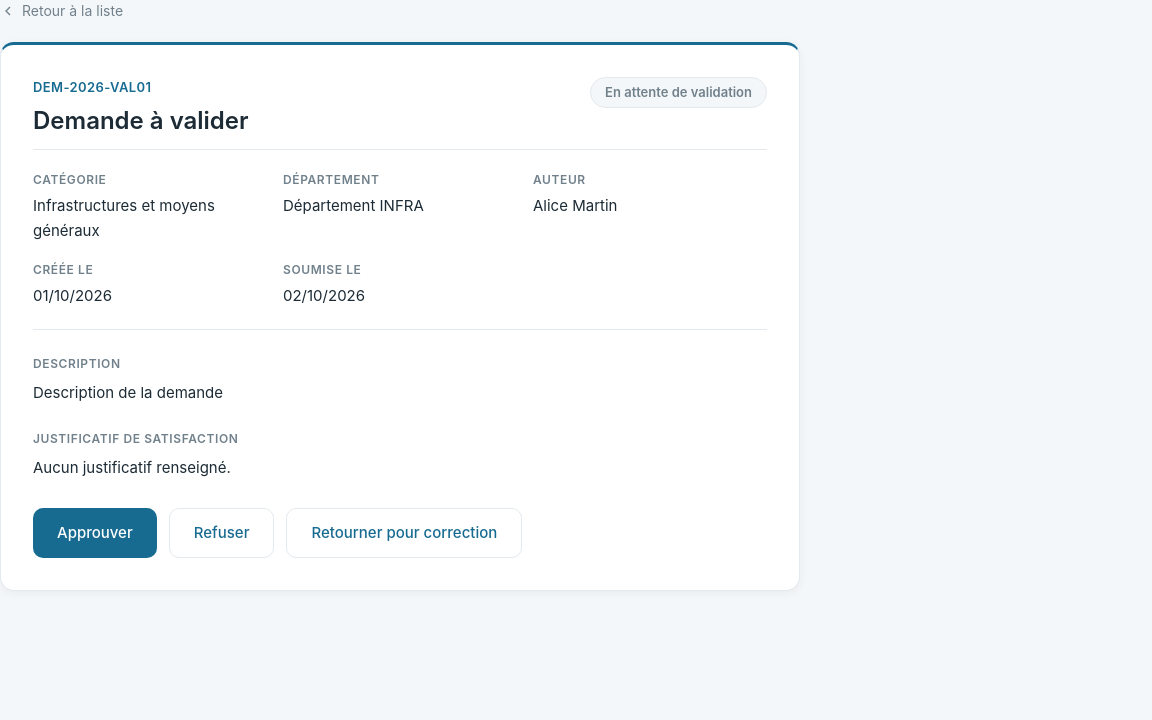
Test: validation UI : le refus est annulé si le motif est vide
This screenshot has width=1152, height=720.
Click the button "Refuser": point(222, 533) [169, 508, 274, 558]
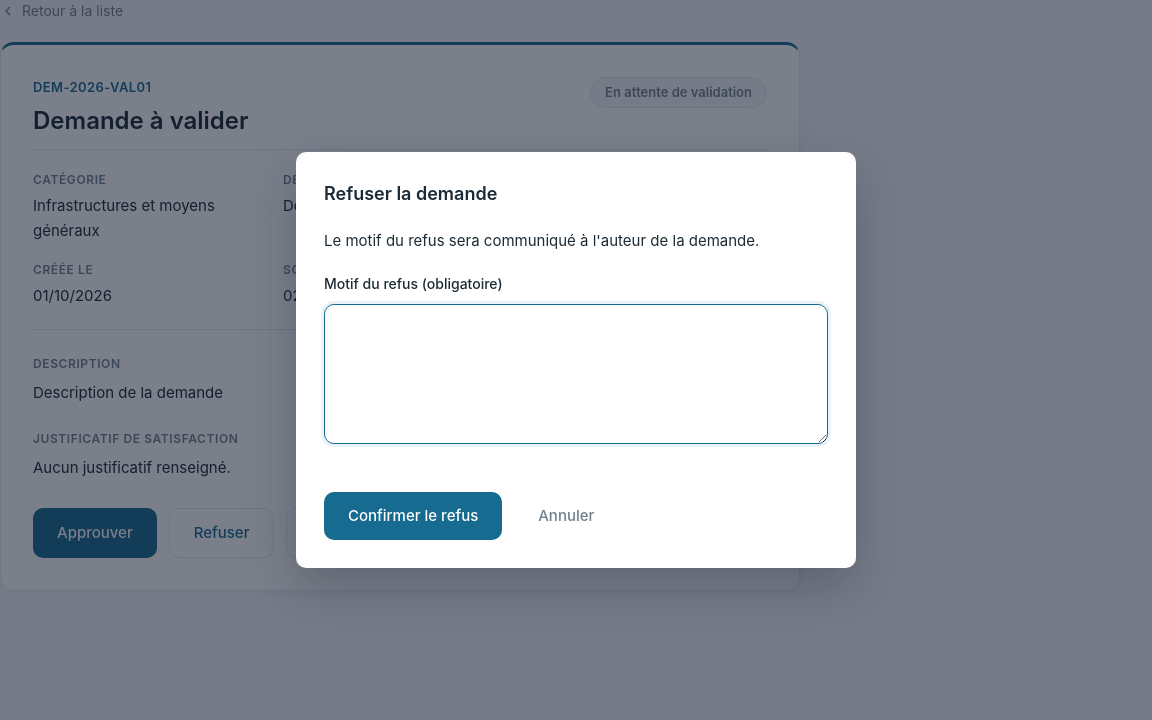
Click the button "Confirmer le refus": point(413, 516) [324, 492, 502, 540]
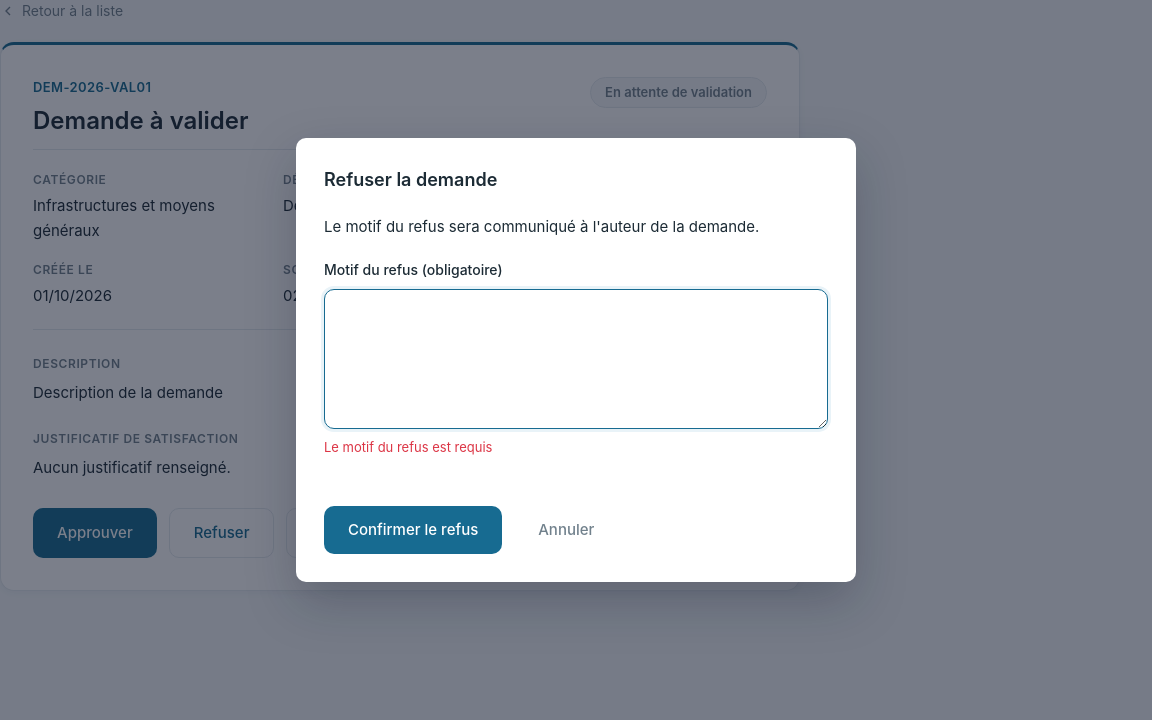
Expected: the message "Le motif du refus est requis" is shown, [324, 439, 492, 455]
